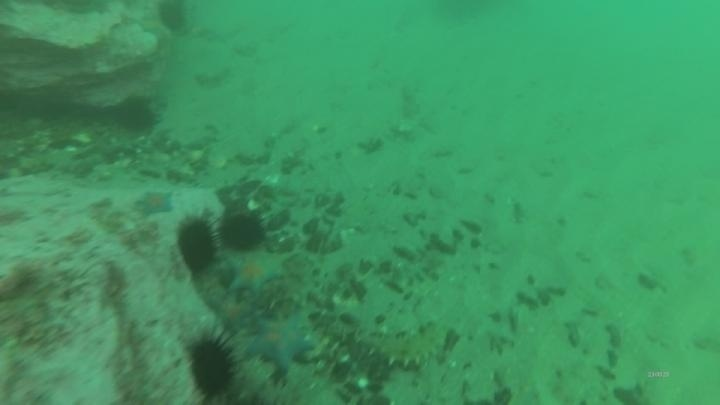echinus: (183, 331, 241, 402), (175, 216, 220, 275), (218, 209, 268, 254), (112, 94, 160, 136), (154, 1, 192, 36)
holothurian: (356, 320, 450, 374)
starfish: (245, 309, 316, 377), (224, 250, 289, 297), (212, 294, 256, 334), (134, 188, 177, 219), (136, 13, 172, 42)
